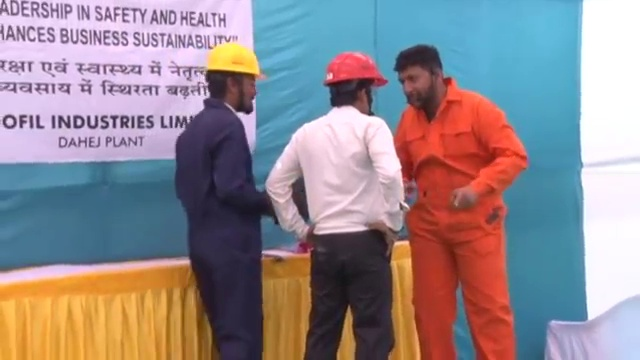helmet: (322, 49, 390, 90), (201, 40, 267, 79)
helmet_off: (395, 42, 447, 111)
helmet_on: (200, 41, 267, 115), (321, 48, 390, 117)
person: (393, 44, 530, 360), (265, 49, 404, 357), (174, 40, 274, 360)
